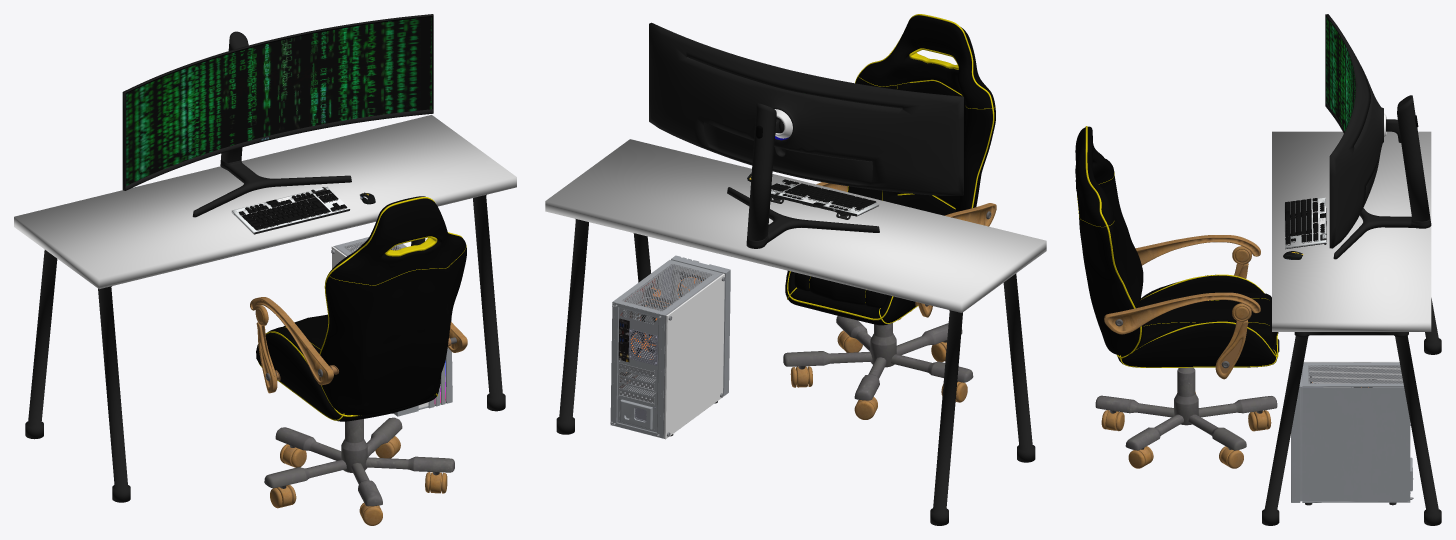
The model's file is computerSetup.glb.
3 renders of one model, left to right at view 1: azimuth 30°, elevation 25°; view 2: azimuth 150°, elevation 25°; view 3: azimuth 270°, elevation 25°, orthographic. The views are drawn at different scales.
Visible parts, largest first — view 1: Study Table, Circle, Main Chair, Chair Base Rods, Arms, Circle.004, Tyres, Buttons, Part, Cube.001, Chair Base 2, Aluminium; view 2: Study Table, Circle, Main Chair, Cube.001, Logo, Circle.004, Chair Base Rods, Tyres, Part, Buttons, Arms, Chair Base 2; view 3: Study Table, Main Chair, Cube.001, Circle, Arms, Circle.004, Chair Base Rods, Tyres, Part, Buttons, Chair Base 2, Logo (+1 smaller).
Part boxes in pixels (x1,y1,x2,y2): Study Table: (14,115,516,502); Circle: (122,14,433,190); Main Chair: (256,196,466,421); Chair Base Rods: (264,417,454,506); Arms: (250,297,467,393); Circle.004: (192,31,351,217); Tyres: (270,436,447,525); Buttons: (238,189,347,230); Part: (258,197,466,420); Cube.001: (331,237,452,416); Chair Base 2: (341,419,367,472); Aluminium: (231,186,350,233); Study Table: (545,139,1046,525); Circle: (649,22,963,195); Main Chair: (785,15,995,325); Cube.001: (610,255,730,438); Logo: (664,181,864,439); Circle.004: (727,103,879,248); Chair Base Rods: (783,316,973,400); Tyres: (790,330,967,419); Part: (787,14,995,323); Buttons: (771,179,876,210); Arms: (816,182,996,317); Chair Base 2: (870,323,896,367); Study Table: (1262,131,1441,525); Main Chair: (1075,126,1277,367); Cube.001: (1290,362,1413,505); Circle: (1325,14,1383,248); Arms: (1104,235,1260,379); Circle.004: (1333,95,1431,259); Chair Base Rods: (1095,395,1277,450); Tyres: (1101,392,1271,468); Part: (1077,126,1278,367); Buttons: (1285,198,1325,244); Chair Base 2: (1174,367,1198,425); Logo: (1286,199,1401,387).
Bounding box in the file's own units: 1.59 × 1.38 × 1.29.
49 materials, 15 textured.
